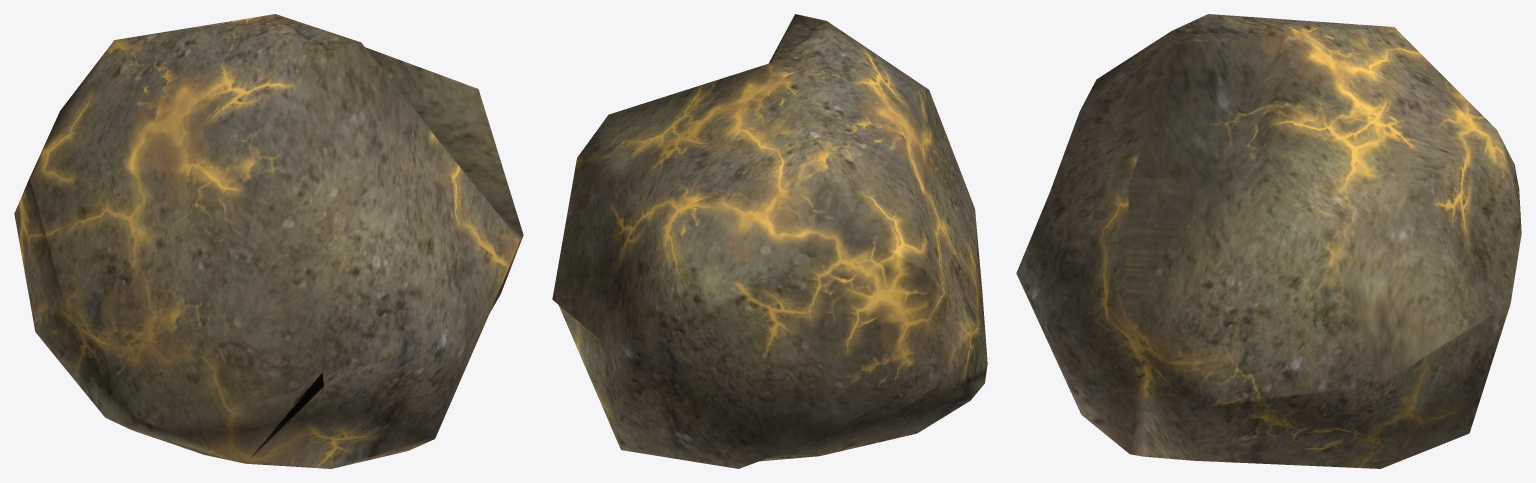
The model's file is rock_mesh.fbx.
3 views of the same model, side by side, from view 1: azimuth 30°, elevation 25°; view 2: azimuth 150°, elevation 25°; view 3: azimuth 270°, elevation 25° (orthographic). The views are drawn at different scales.
Visible parts, largest first — view 1: PolyGroup1; view 2: PolyGroup1; view 3: PolyGroup1.
Part boxes in pixels (x1=…): PolyGroup1: x1=14, y1=14, x2=523, y2=468; PolyGroup1: x1=552, y1=14, x2=987, y2=468; PolyGroup1: x1=1016, y1=14, x2=1521, y2=468.
Bounding box in the file's own units: 166 × 165 × 182.
